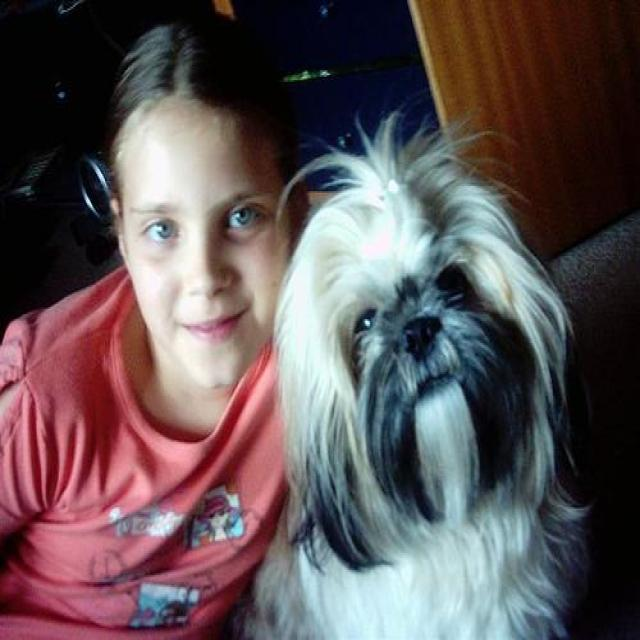shih_tzu: (230, 92, 600, 638)
